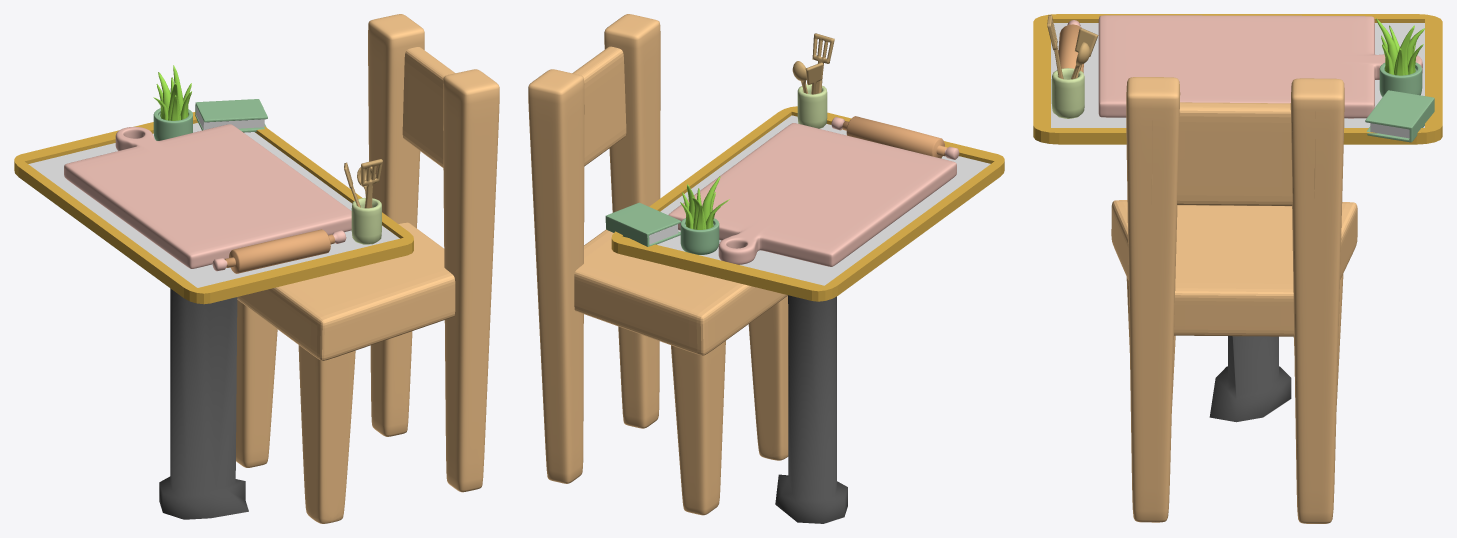
Rendered from 3D_Decors.fbx.
The picture shows the model from 3 angles, left to right: view 1: azimuth 30°, elevation 25°; view 2: azimuth 150°, elevation 25°; view 3: azimuth 270°, elevation 25°; orthographic projection. The views are drawn at different scales.
Parts seen in each view (by area): view 1: MAP; view 2: MAP; view 3: MAP.
Part boxes in pixels (x1,y1,x2,y2): MAP: (14, 14, 499, 523); MAP: (528, 14, 1004, 523); MAP: (1033, 14, 1442, 523).
Size of the model in its own units: 3.43 by 4.05 by 3.71.
